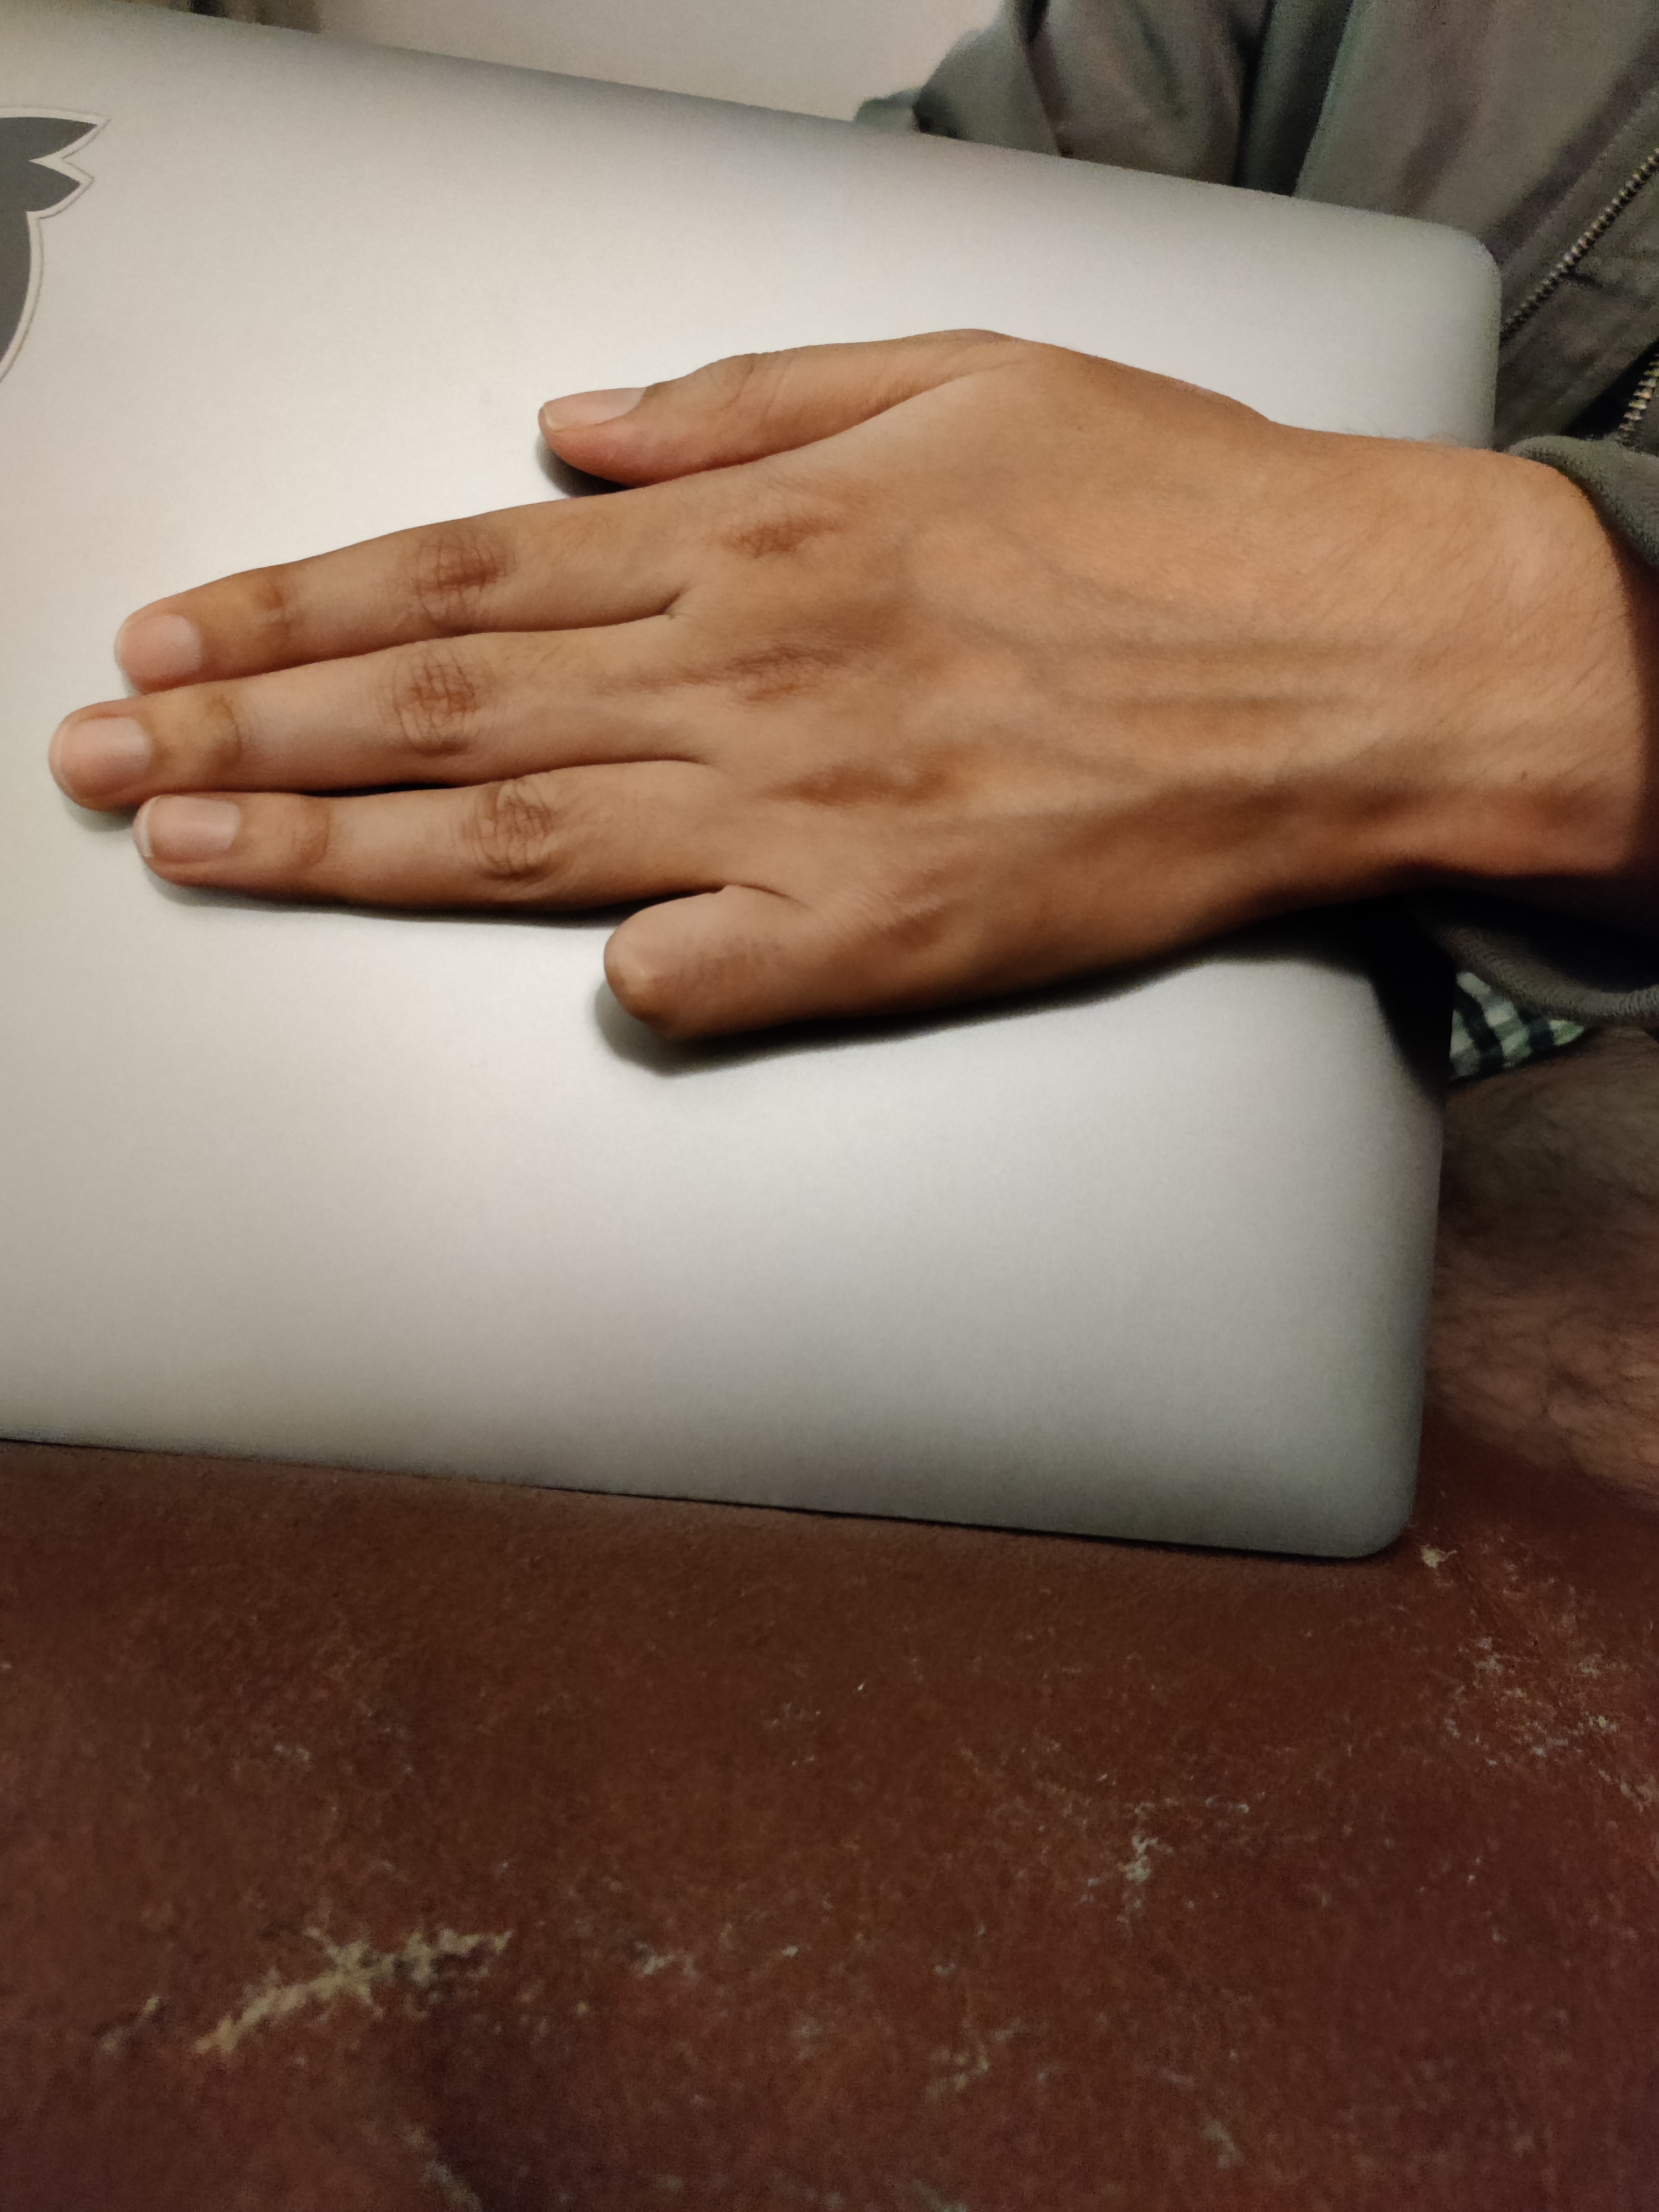right: (26, 357, 1633, 1231)
